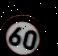Speed Limit -60-: (0, 6, 52, 56)
